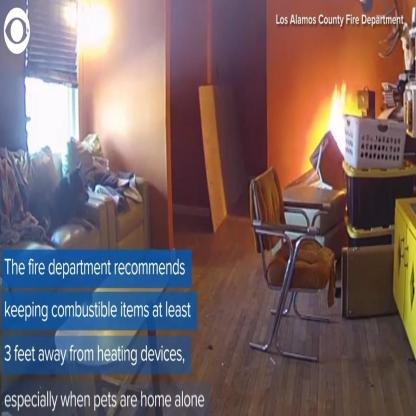fire: (321, 81, 356, 153)
